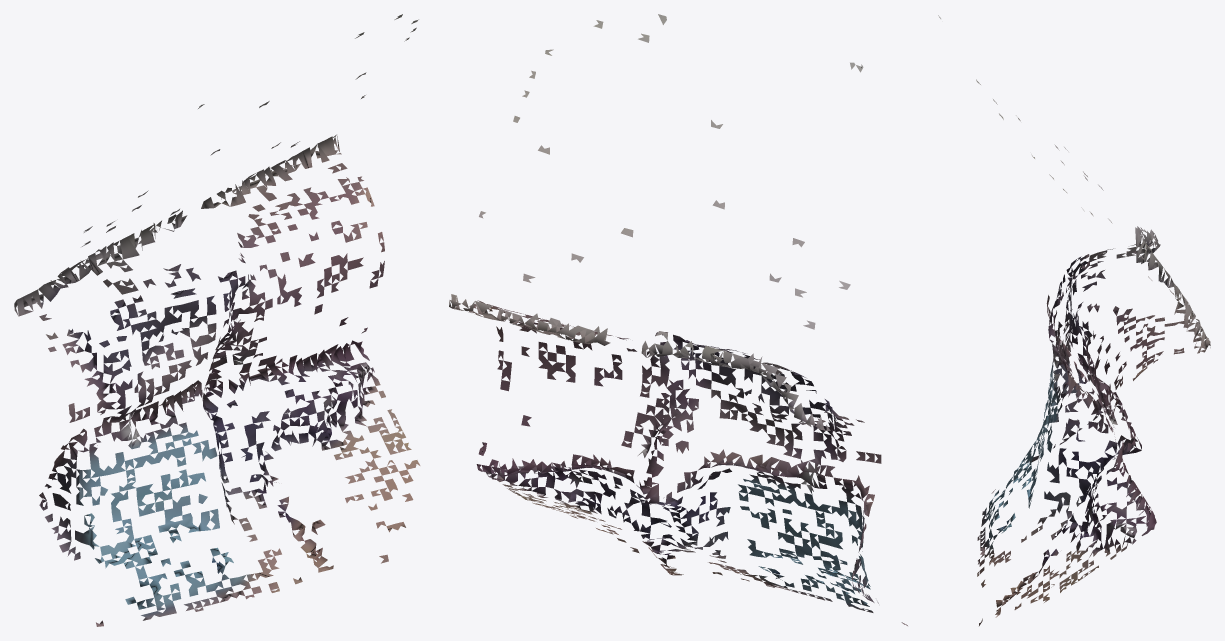
Rendered from alpha0-03.gltf.
3 renders of one model, left to right at view 1: azimuth 30°, elevation 25°; view 2: azimuth 150°, elevation 25°; view 3: azimuth 270°, elevation 25°, orthographic.
Bounding box in the file's own units: 1.04 × 1.54 × 0.7152.
